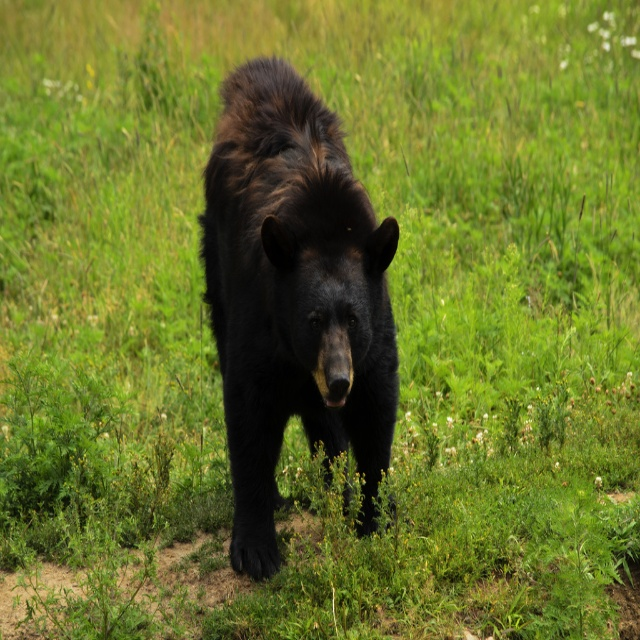Bear: (196, 53, 401, 584)
